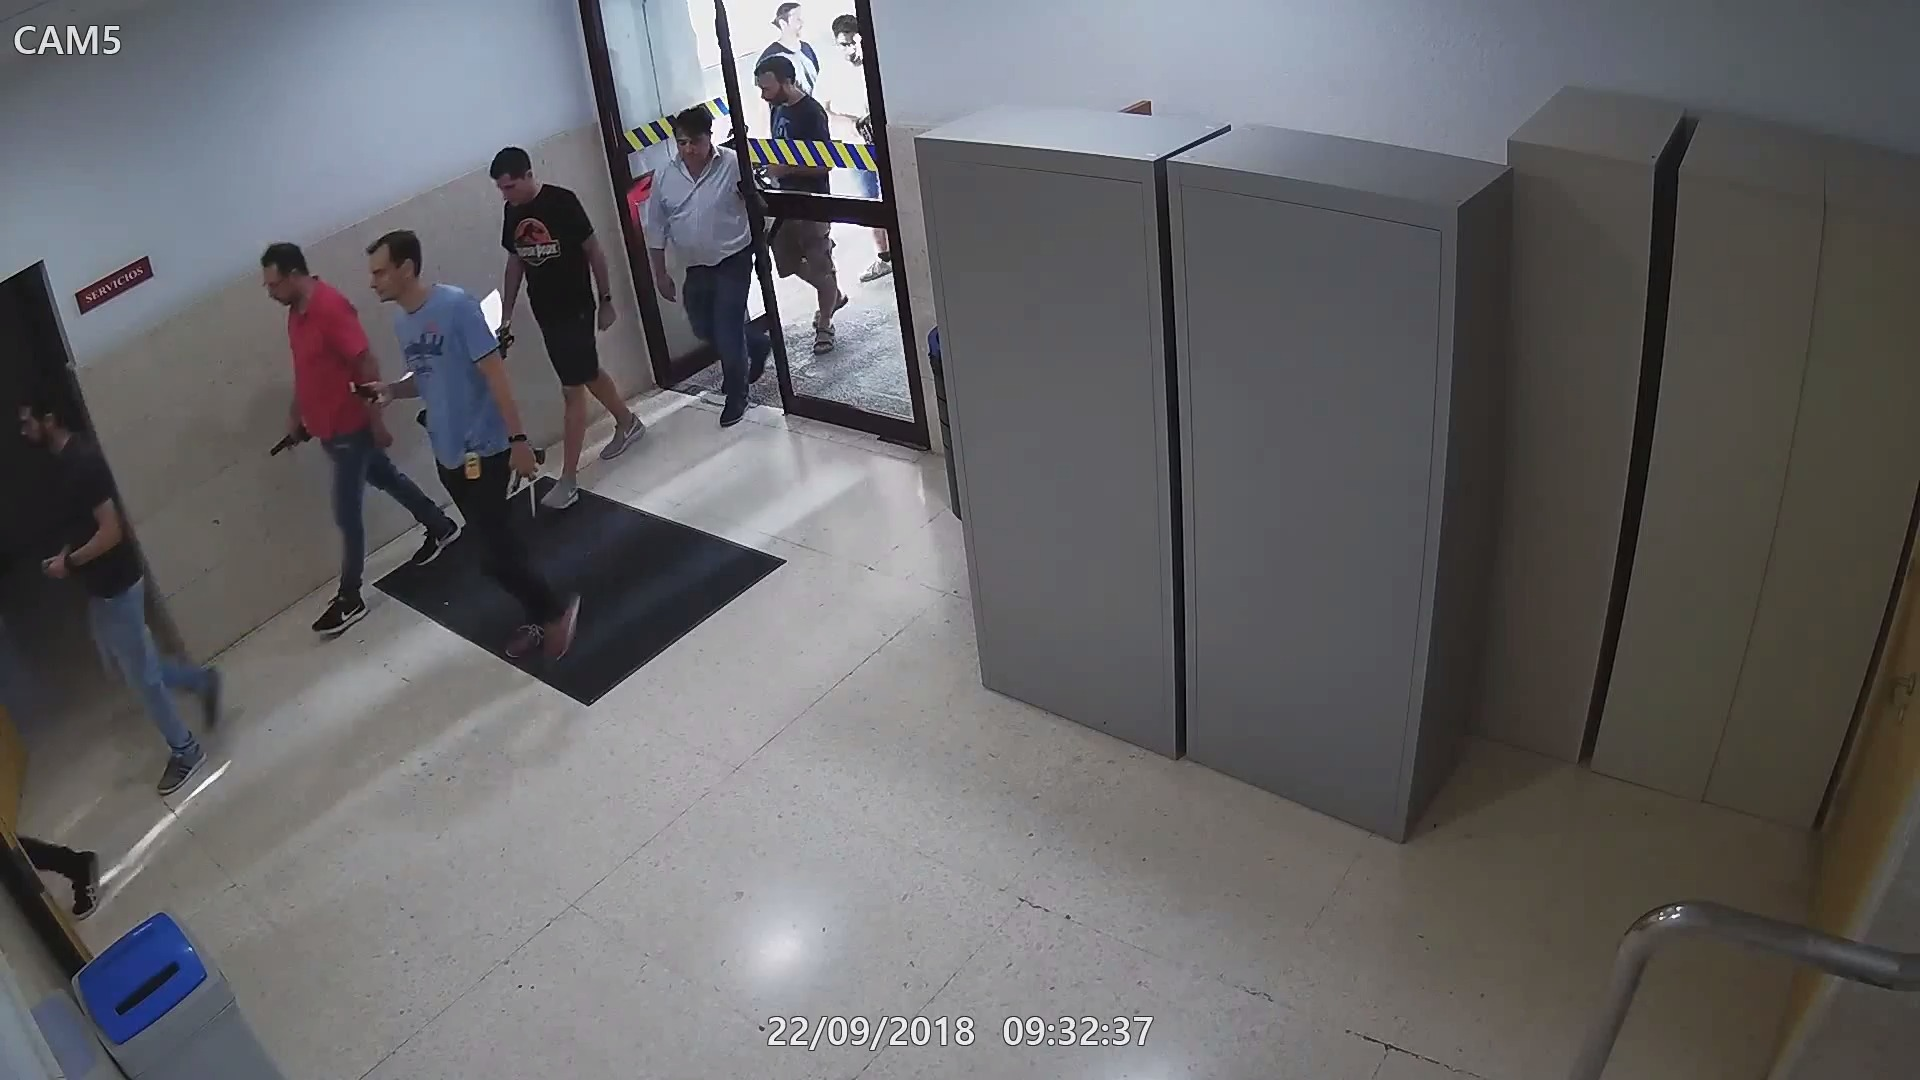knife: (517, 448, 543, 516)
pistol: (506, 444, 545, 495), (272, 421, 318, 460), (36, 547, 70, 584), (489, 315, 516, 357)
